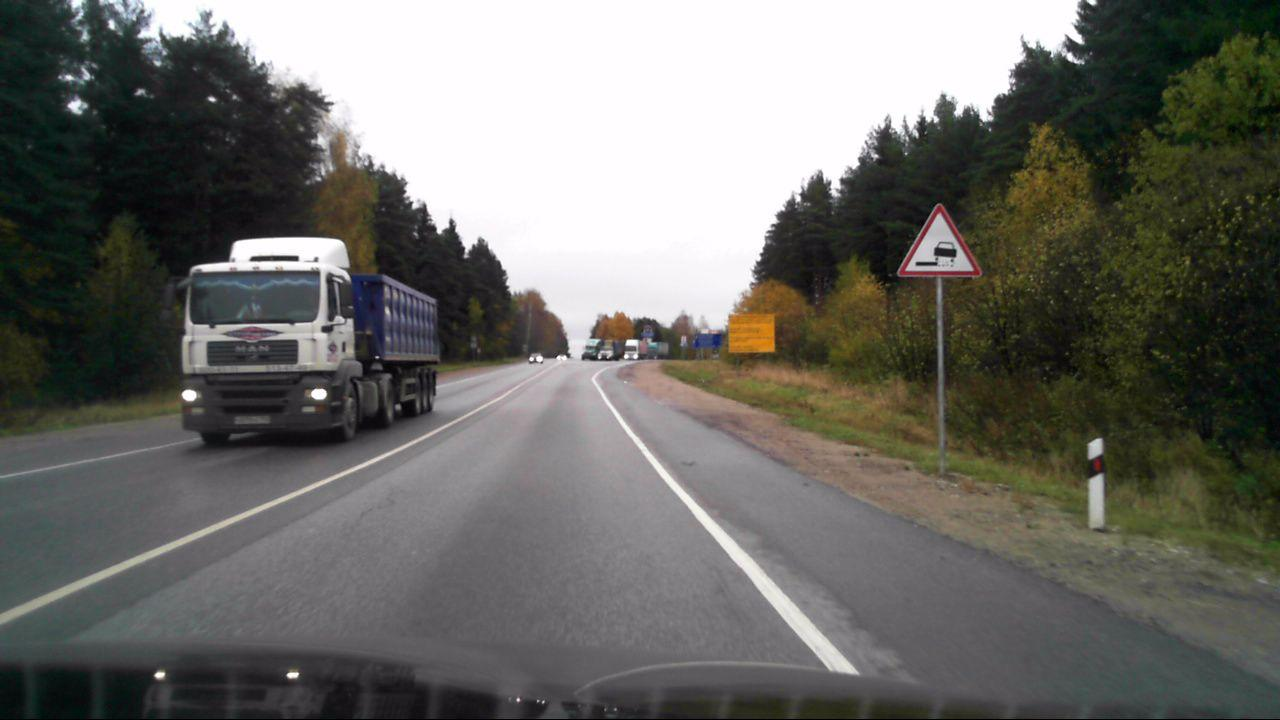1_19: (897, 202, 979, 277)
